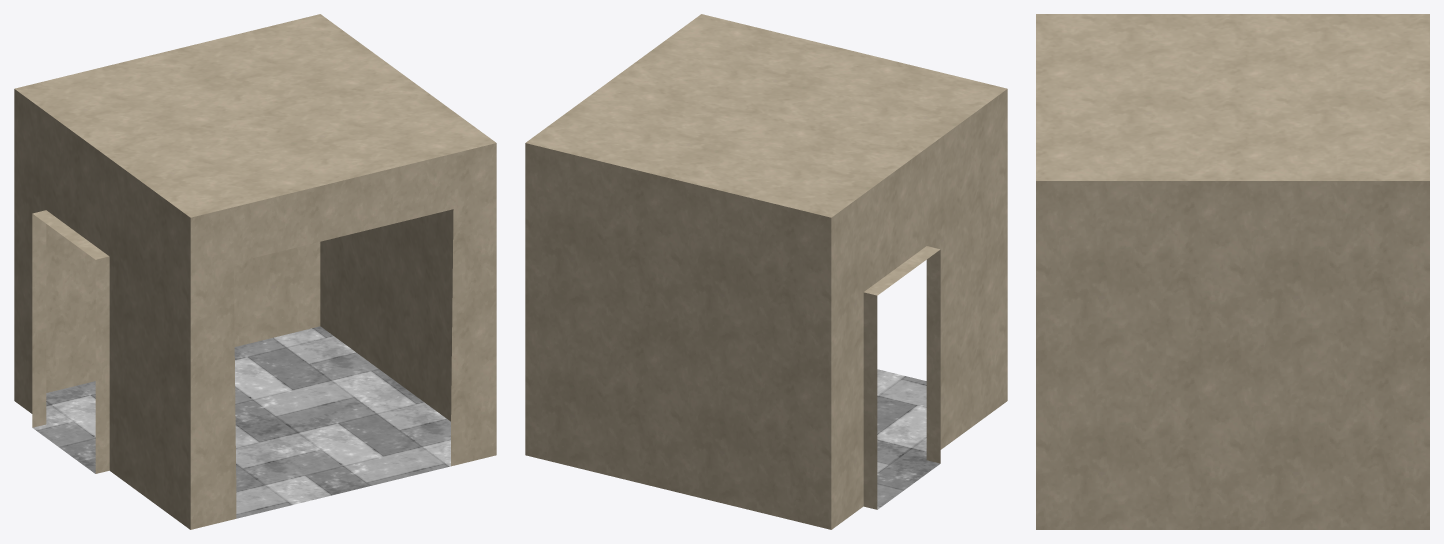
The model's file is stage-structure-backstage.glb.
3 renders of one model, left to right at view 1: azimuth 30°, elevation 25°; view 2: azimuth 150°, elevation 25°; view 3: azimuth 270°, elevation 25°, orthographic. The views are drawn at different scales.
Parts seen in each view (by area): view 1: Stage_Structure_Backstage; view 2: Stage_Structure_Backstage; view 3: Stage_Structure_Backstage.
Part boxes in pixels (x1,y1,x2,y2): Stage_Structure_Backstage: (14,14,496,529); Stage_Structure_Backstage: (525,14,1007,529); Stage_Structure_Backstage: (1036,14,1429,529).
Bounding box in the file's own units: 5.71 × 5.32 × 5.44.
Materials: 2 (2 with a texture image).
